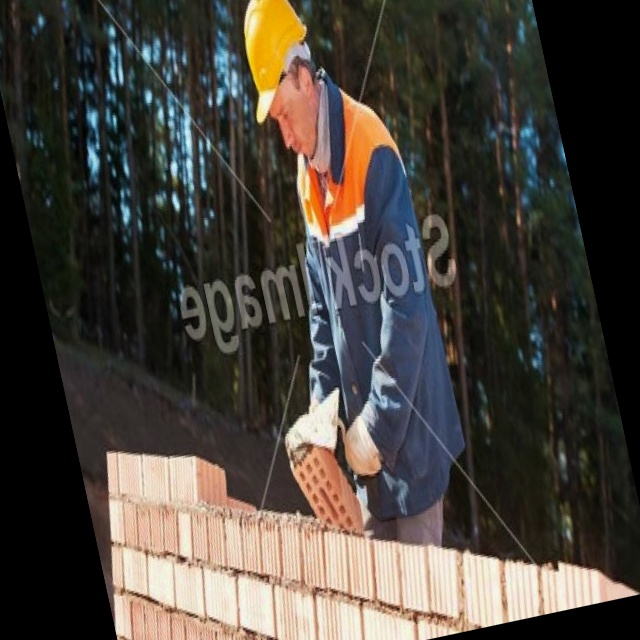Con_Casco: (231, 0, 331, 155)
